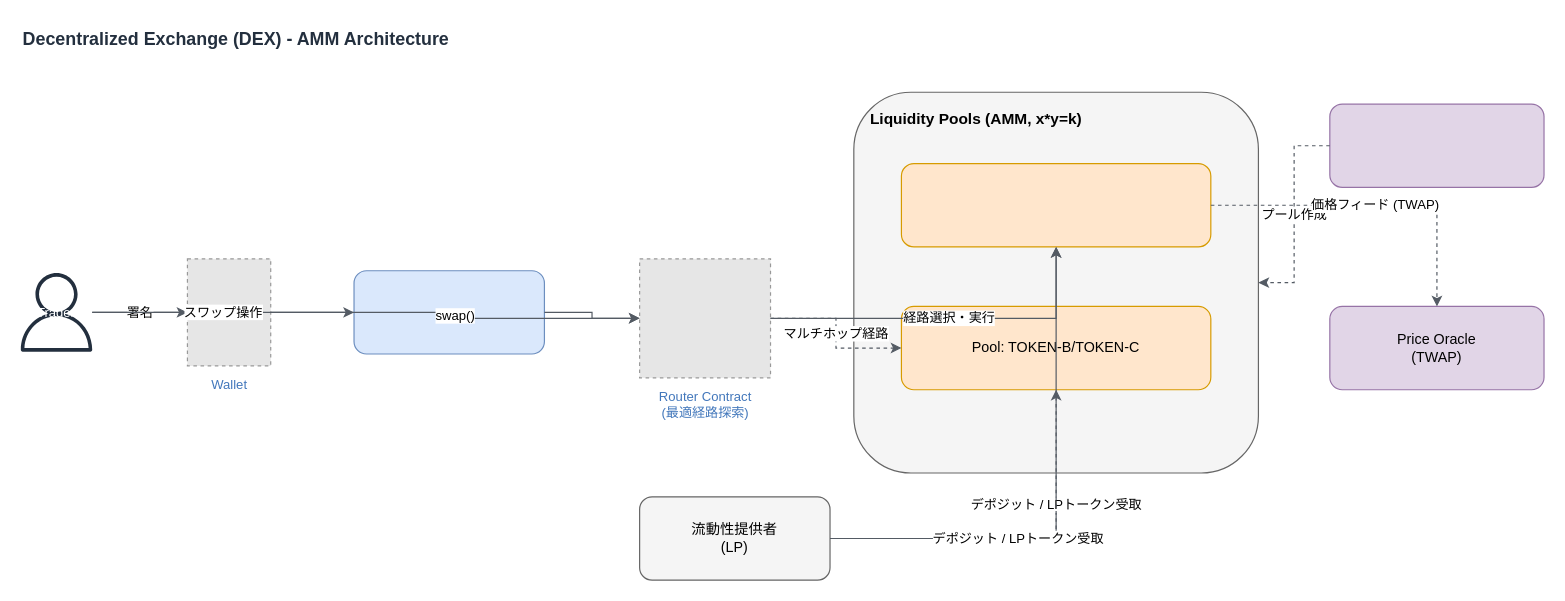
Some shapes in this 1565 by 601 pixel diagram are drawn without their labels. Grey dashed boxes stand in for pictures. The shapes that lost their labels are listed below. From the top down, each one's centre as x and y in pixels, then its label:
At point (1436, 145): "Factory Contract (新規プール作成)".
At point (1055, 204): "Pool: TOKEN-A/TOKEN-B".
At point (448, 312): "Frontend (Swap UI)".
